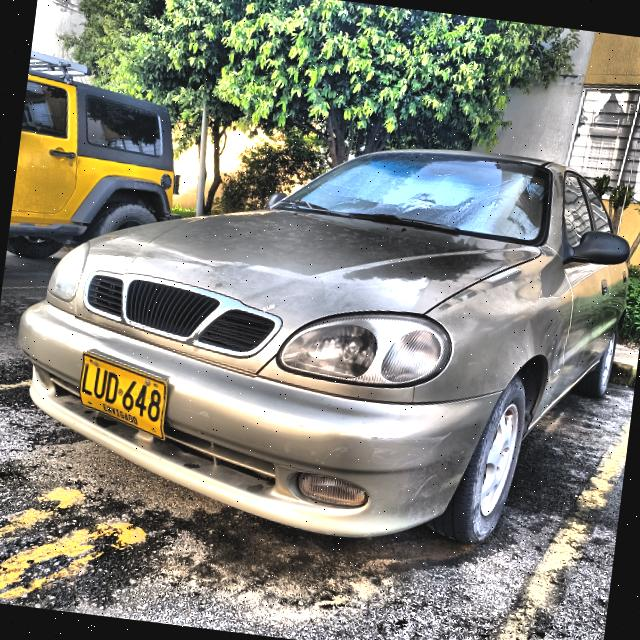plate: (78, 351, 167, 441)
